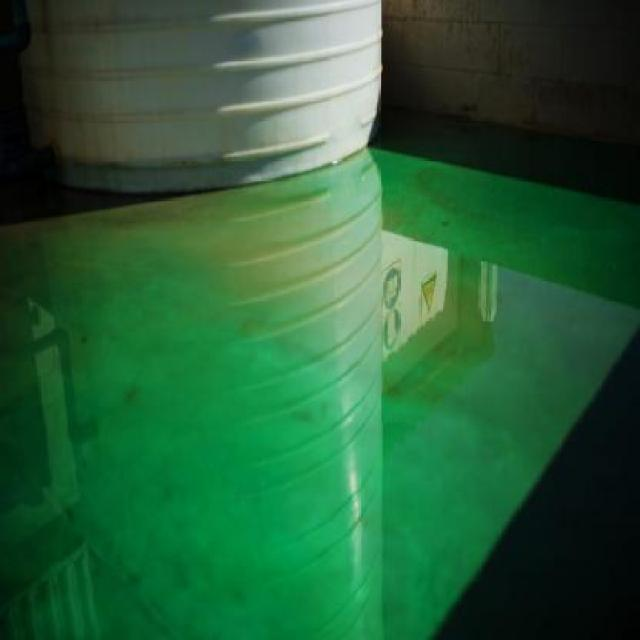spillage: (0, 149, 640, 640)
